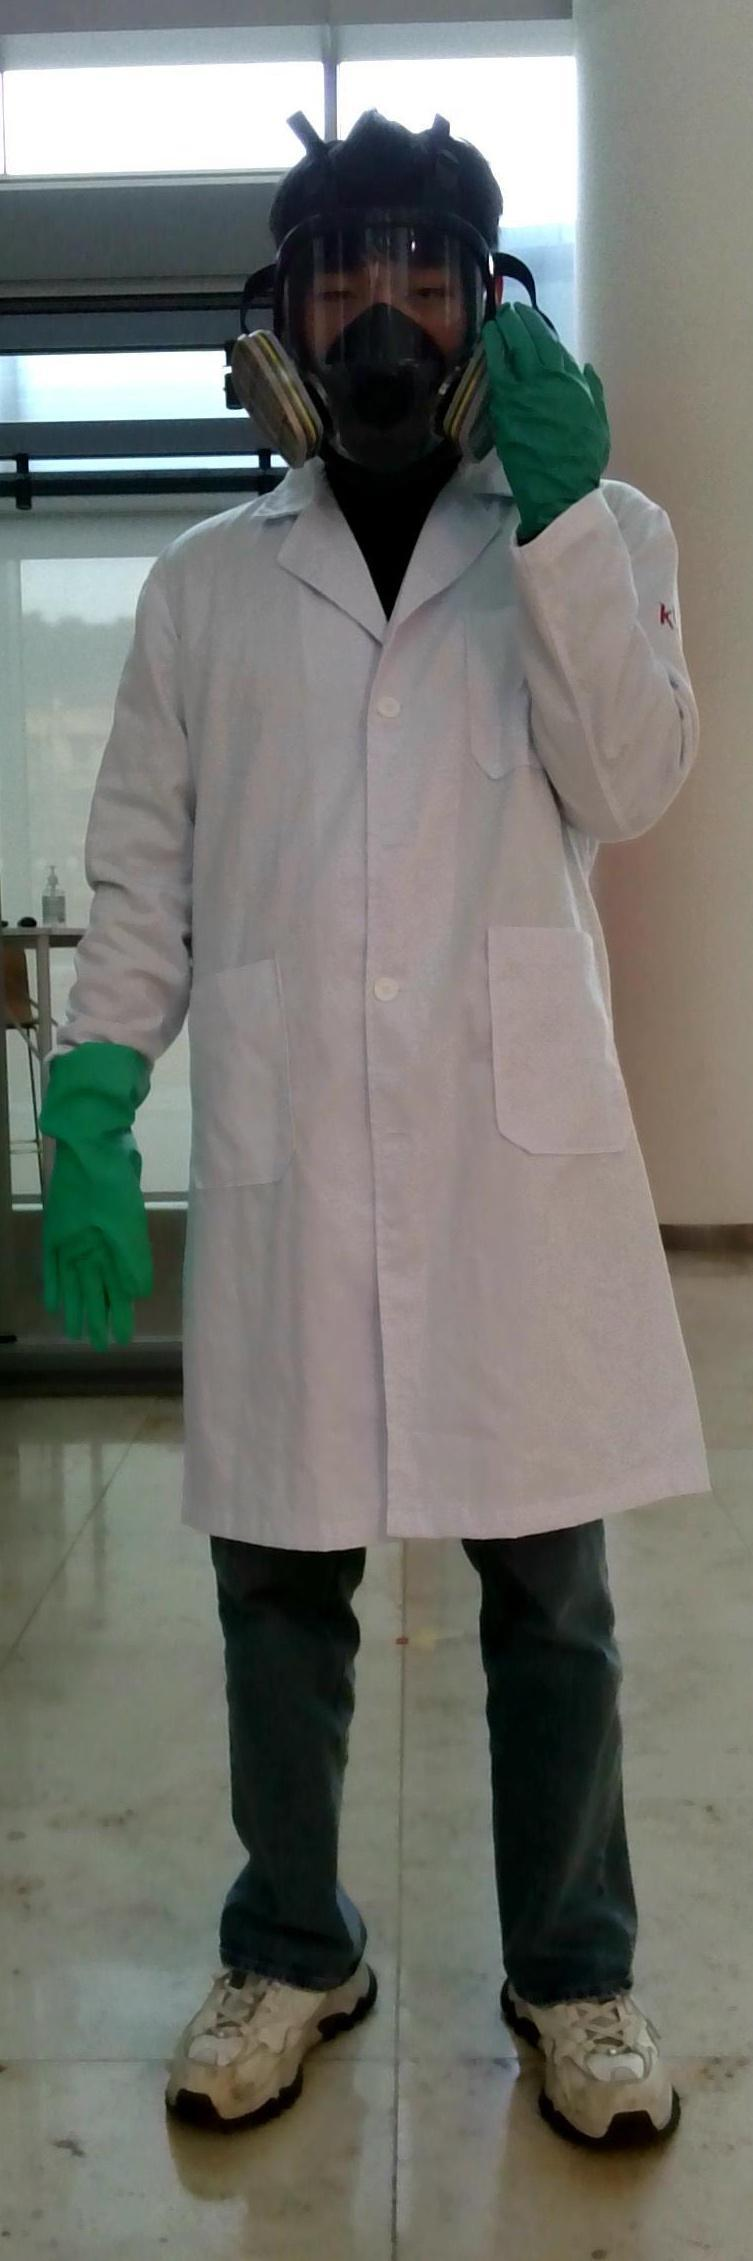lab_coat: (151, 551, 685, 1511)
